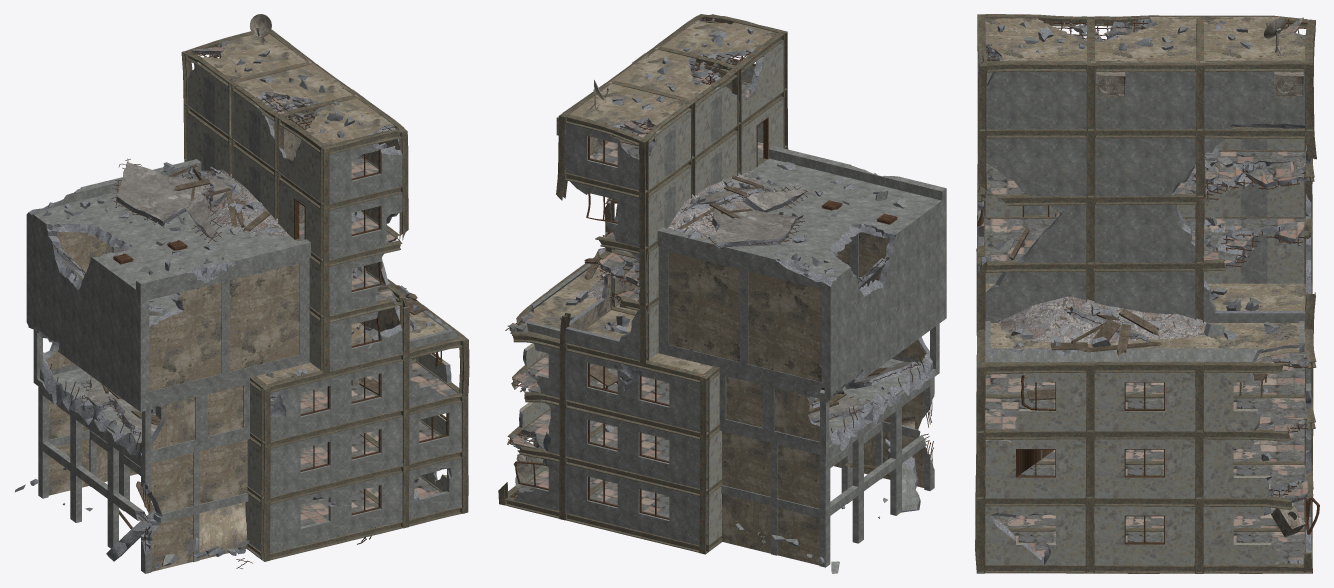
The model's file is building.glb.
3 views of the same model, side by side, from view 1: azimuth 30°, elevation 25°; view 2: azimuth 150°, elevation 25°; view 3: azimuth 270°, elevation 25° (orthographic). The views are drawn at different scales.
Parts seen in each view (by area): view 1: KB3D_AFT_BldgSM_J_Main; view 2: KB3D_AFT_BldgSM_J_Main; view 3: KB3D_AFT_BldgSM_J_Main.
Part boxes in pixels (x1,y1,x2,y2): KB3D_AFT_BldgSM_J_Main: (15,14,469,573); KB3D_AFT_BldgSM_J_Main: (498,14,946,573); KB3D_AFT_BldgSM_J_Main: (975,14,1319,573).
Size of the model in its own units: 16.58 by 21.25 by 12.64.
12 materials, 12 textured.
